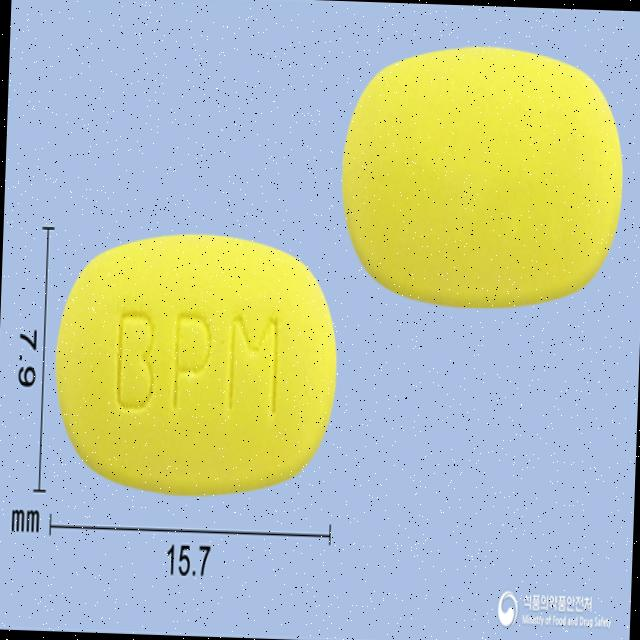Claycin: (46, 224, 348, 508), (333, 33, 630, 318)
